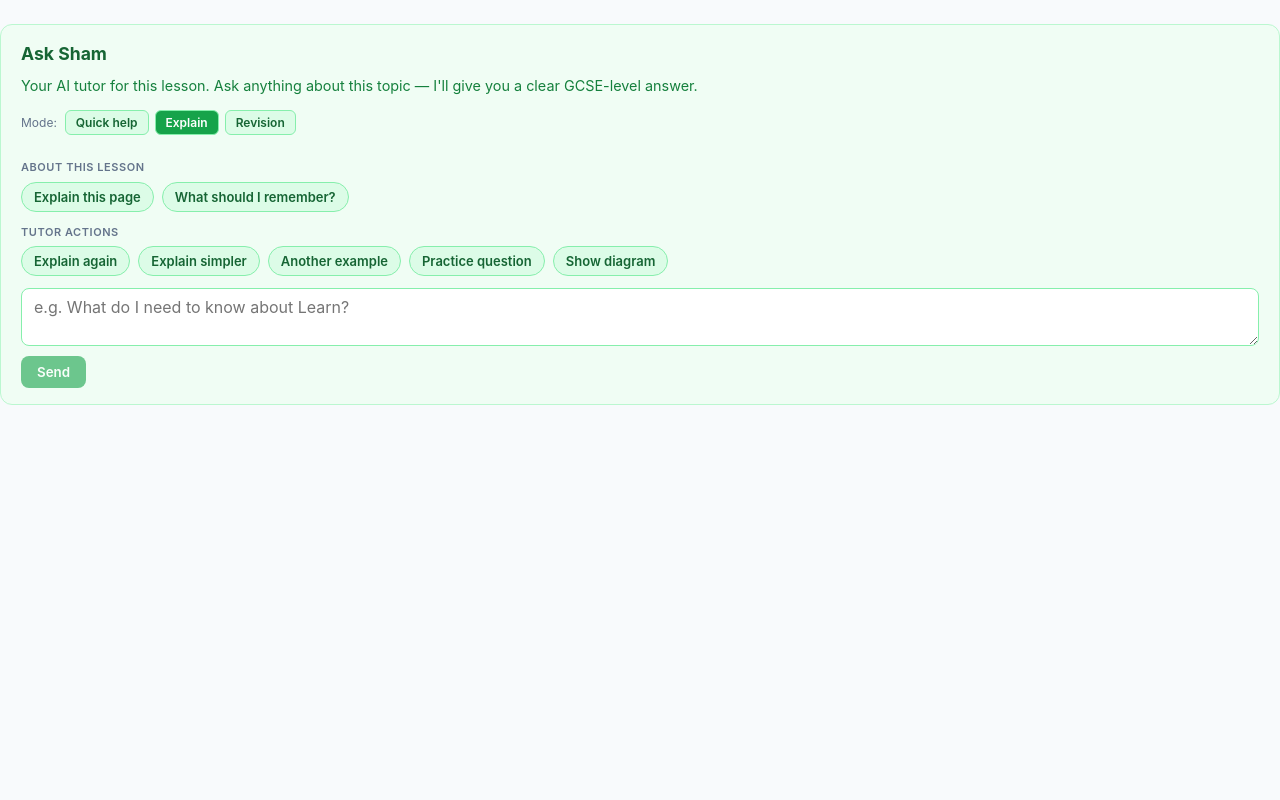
Test: AskAiStudentPanel rich student UI › shows Thinking… while loading, not trusted-source wording
In the text box: (640,317) x1=21 y1=288 x2=1259 y2=346, type "What is mitosis?"
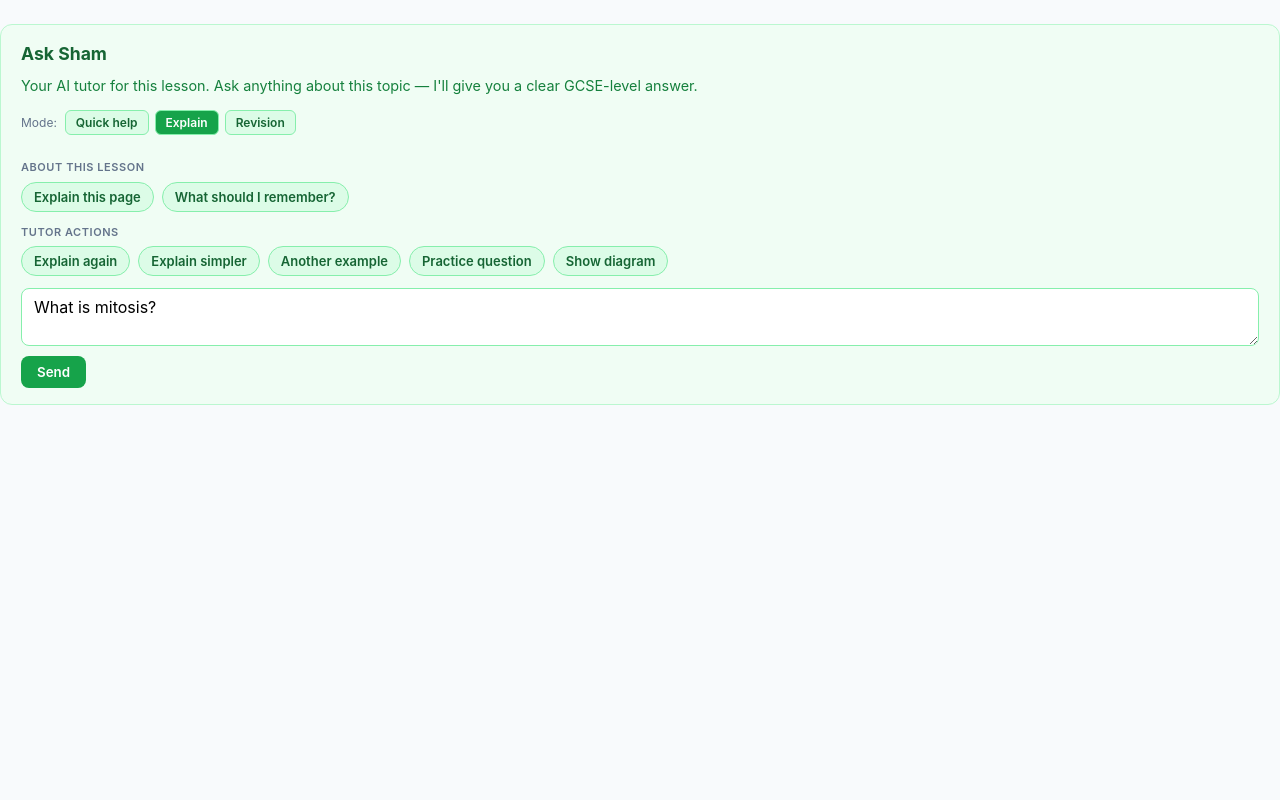
Click the button "Send": (54,372) x1=21 y1=356 x2=86 y2=388
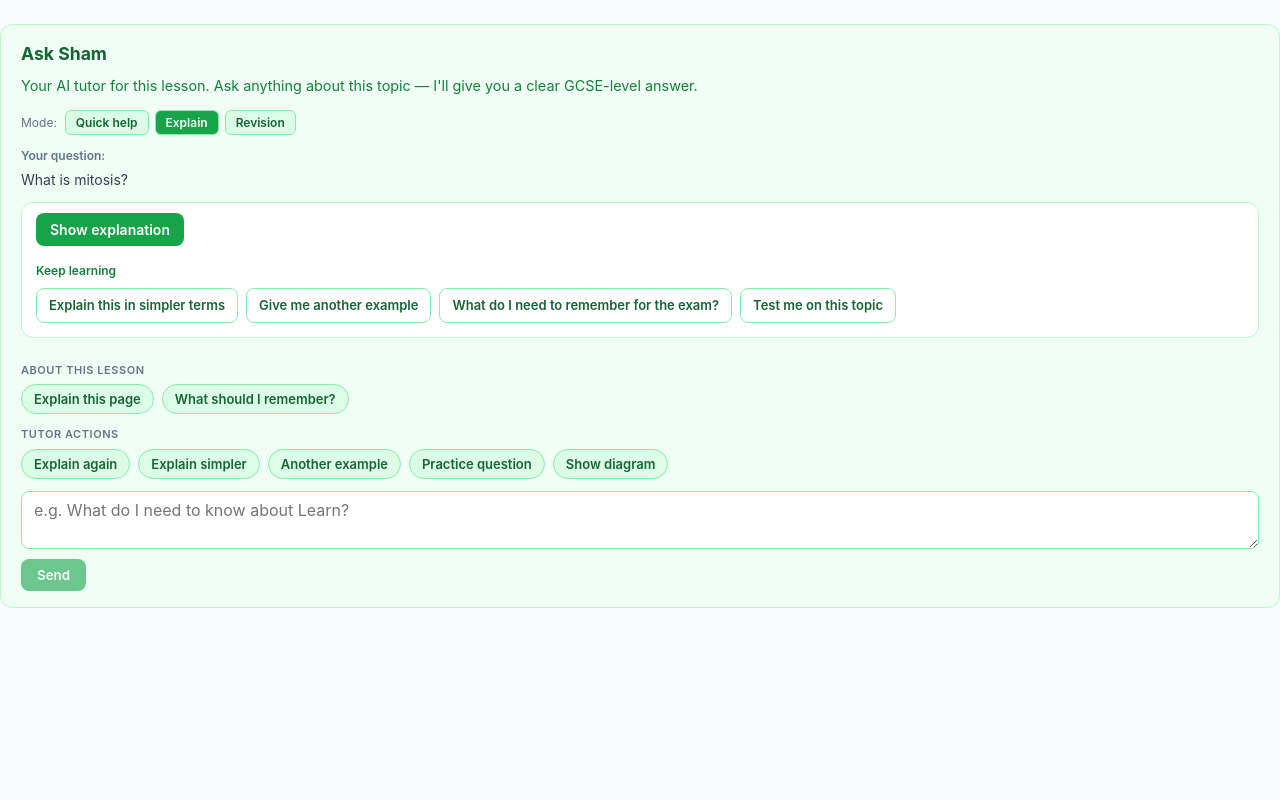
Expected: the button named "Thinking…" is disabled, x1=21 y1=559 x2=86 y2=591
